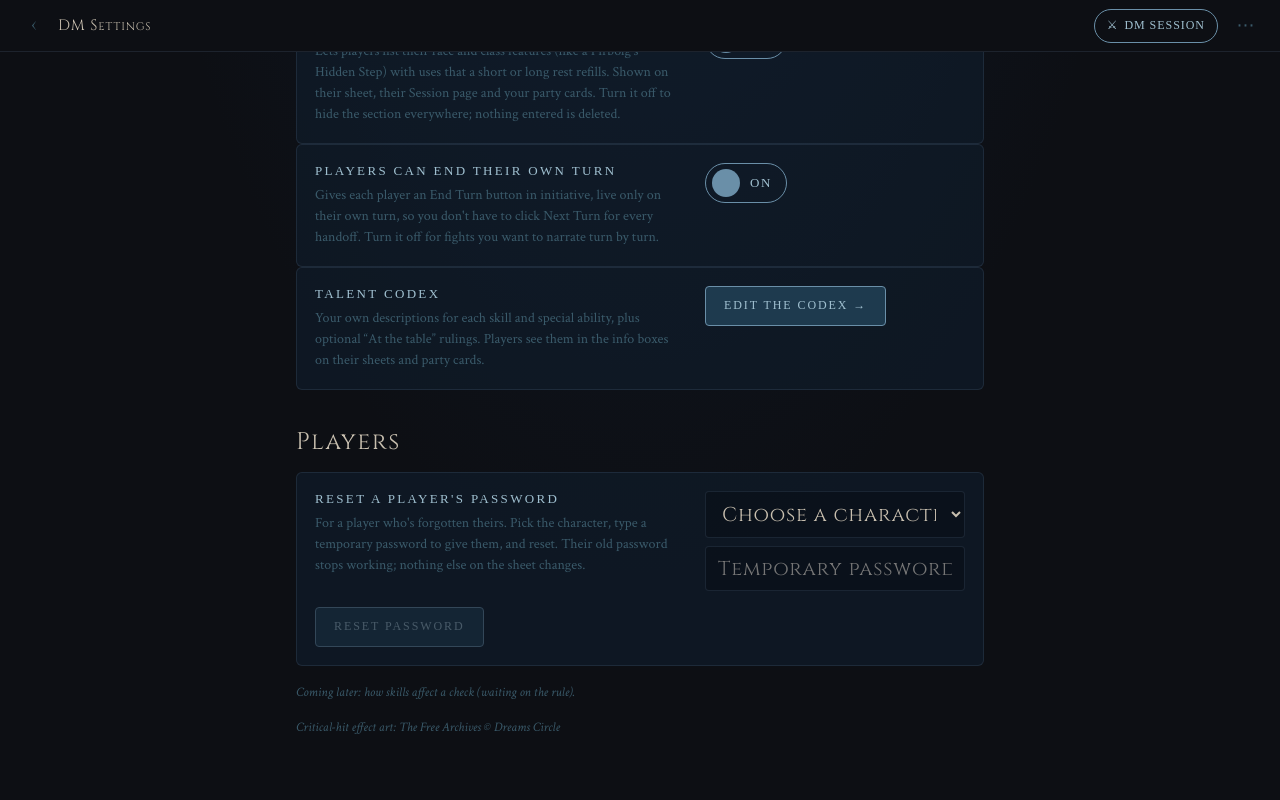
Test: DmSettingsPage › says so when the reset fails
(page scrolled)
Select "Aesop" in the dropdown named "Character" at (835, 514), box [705,491,965,538]
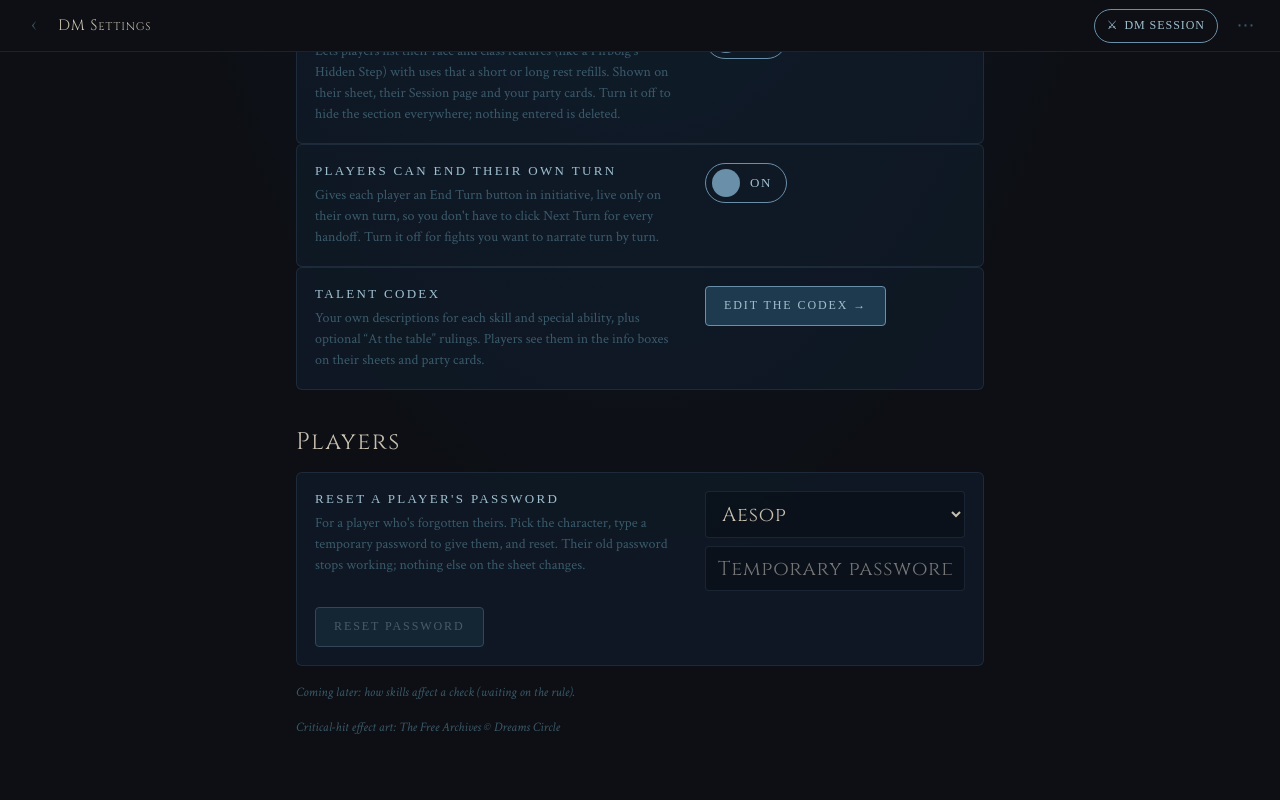
Type "x" into the field labelled "Temporary password" at (835, 568), box [705,546,965,591]
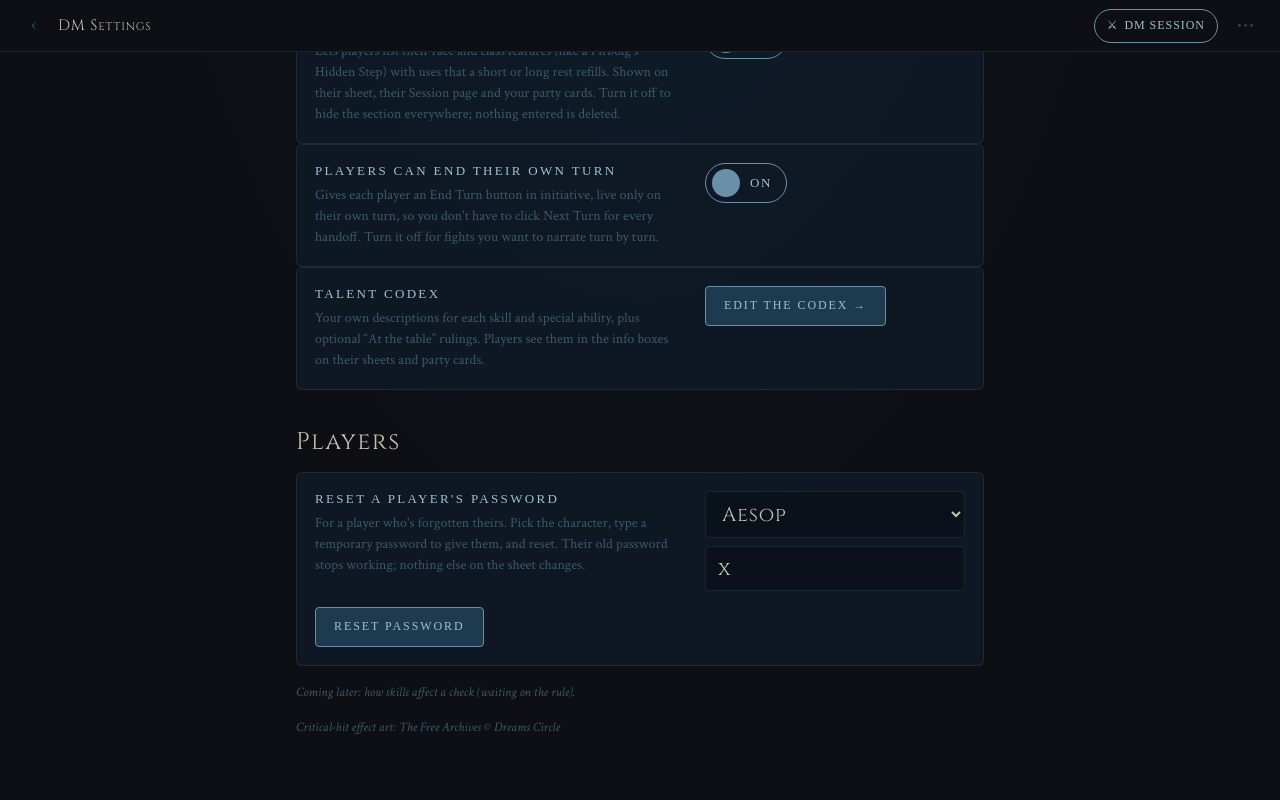
Click the button "Reset password" at (399, 627), box [315,607,484,647]
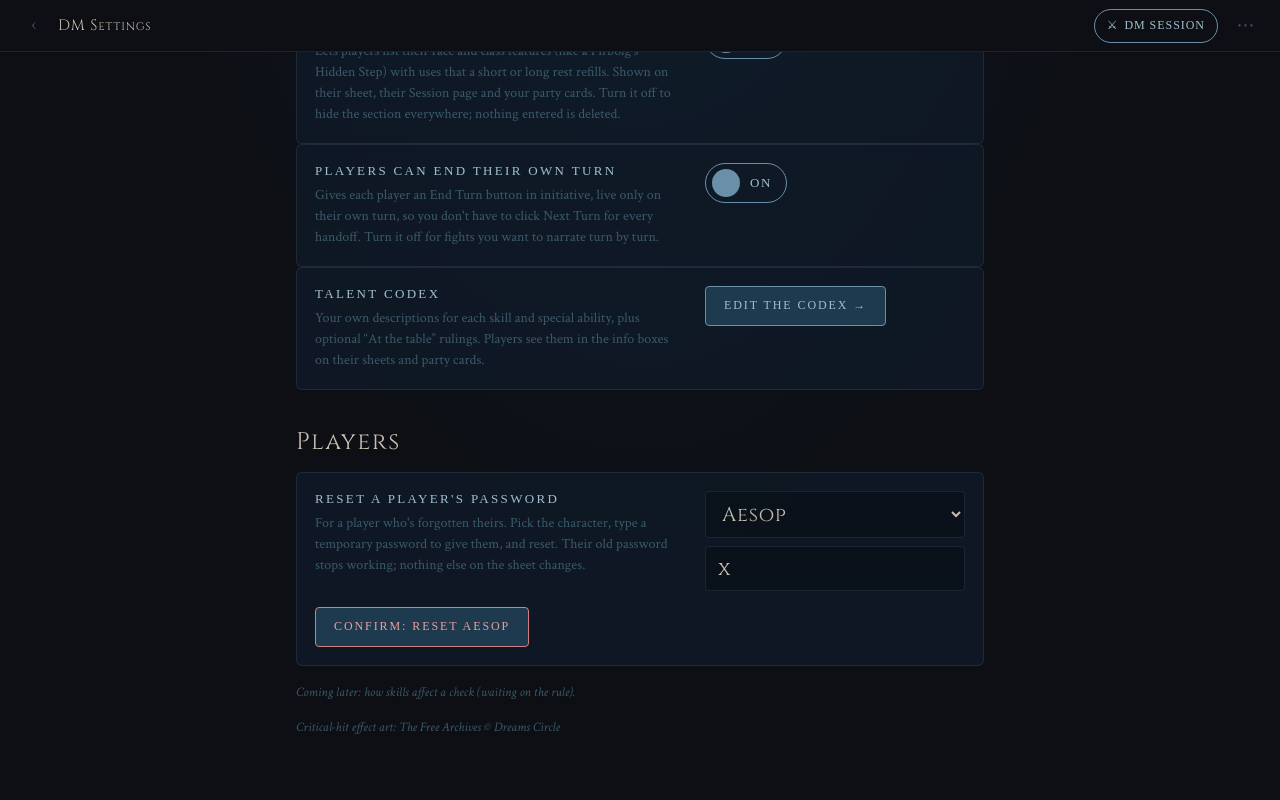
Click the button "Confirm: reset Aesop" at (422, 627), box [315,607,529,647]
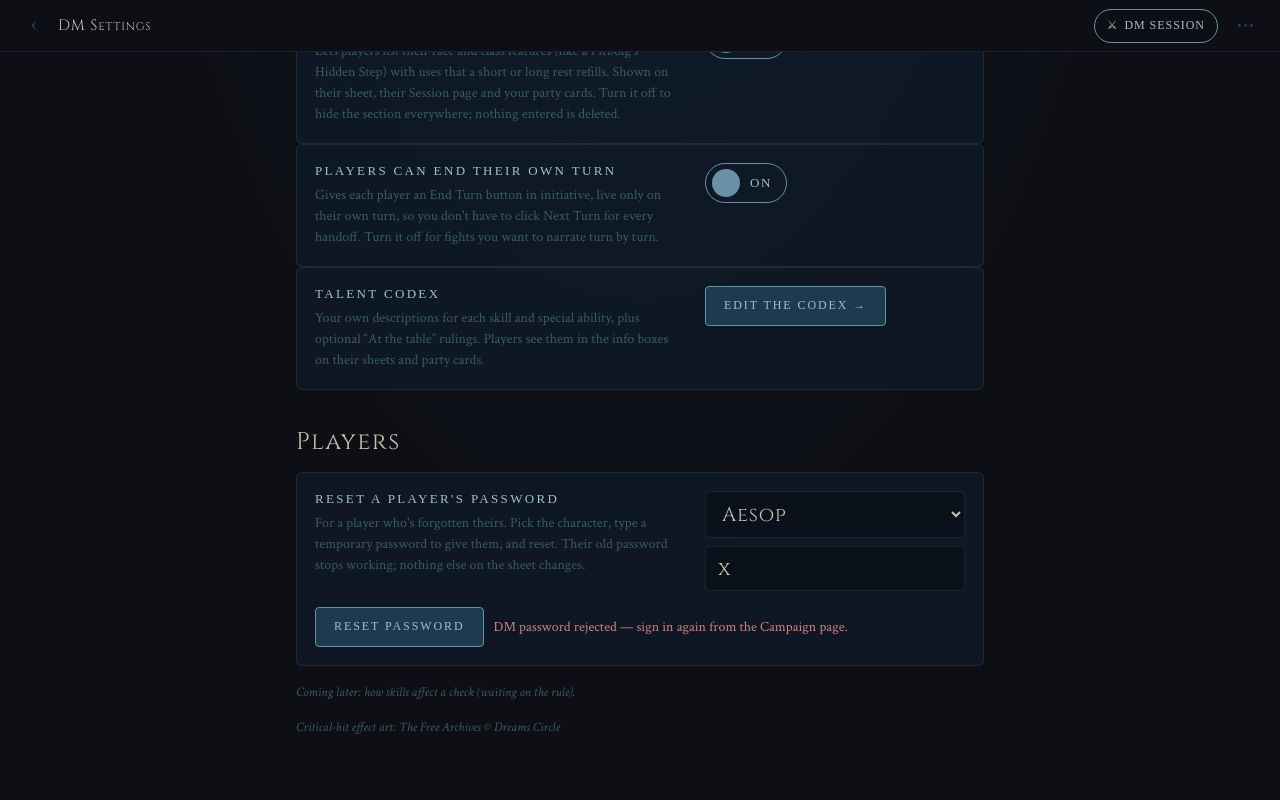
Check: the message shows "DM password rejected", box [494,618,848,636]
